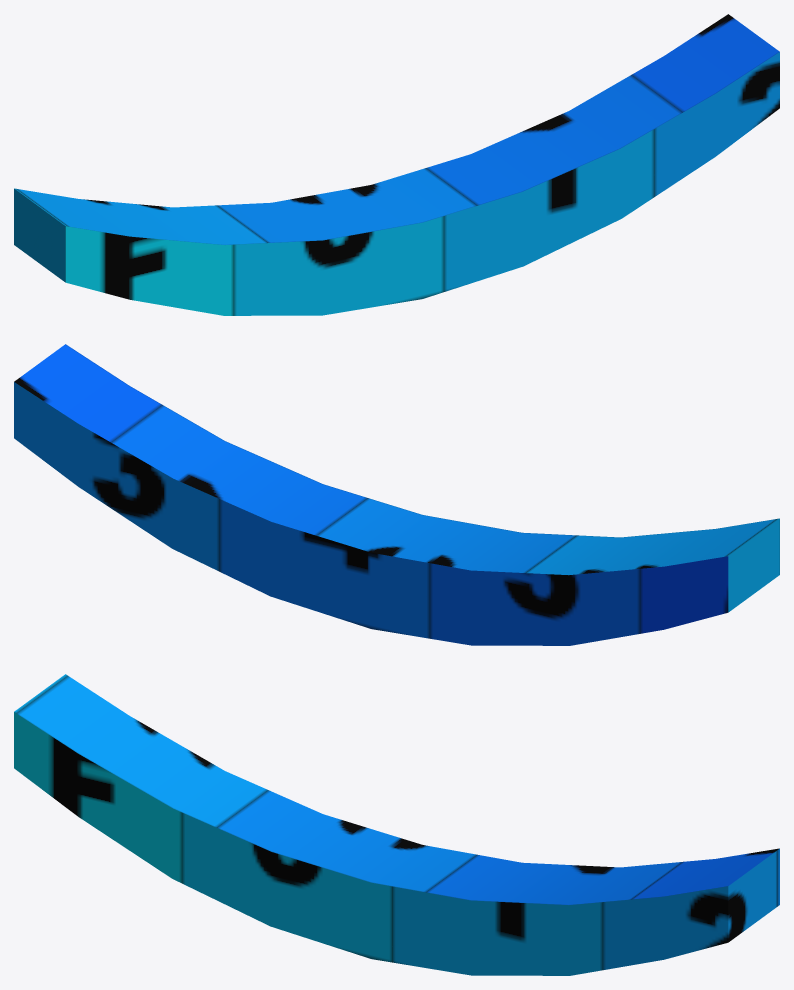
The model's file is SM_Module_bridge_small.fbx.
The picture shows the model from 3 angles, top to bottom: view 1: azimuth 30°, elevation 25°; view 2: azimuth 150°, elevation 25°; view 3: azimuth 330°, elevation 25°; orthographic projection.
Parts seen in each view (by area): view 1: SM_Module_bridge_small; view 2: SM_Module_bridge_small; view 3: SM_Module_bridge_small.
Boxes of the visible parts, <box> form: SM_Module_bridge_small: <box>14,14,779,315</box>; SM_Module_bridge_small: <box>14,344,779,645</box>; SM_Module_bridge_small: <box>14,674,779,975</box>.
Size of the model in its own units: 800 by 171 by 100.
1 material, 1 textured.
